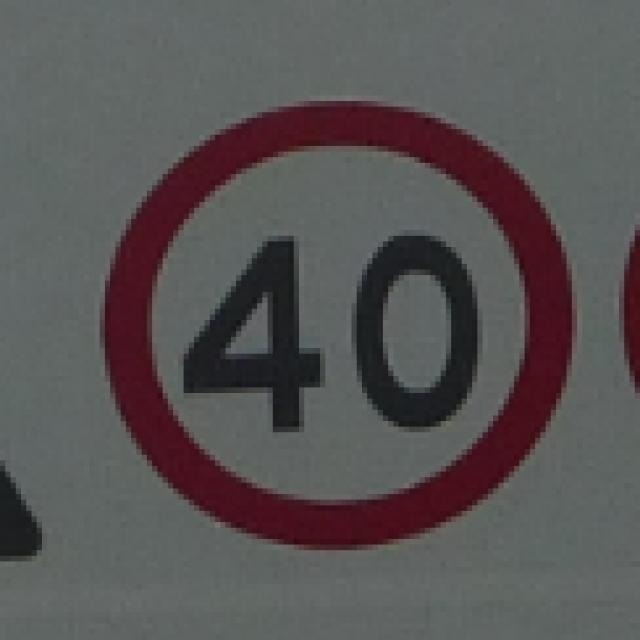speed limit 40: (99, 100, 577, 556)
